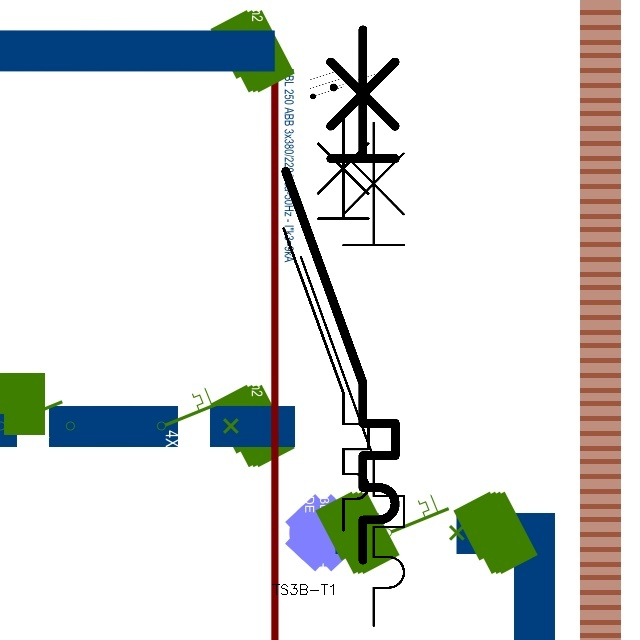interruptor_termomagnetico: (272, 16, 409, 574), (288, 109, 417, 638), (273, 107, 379, 540)
